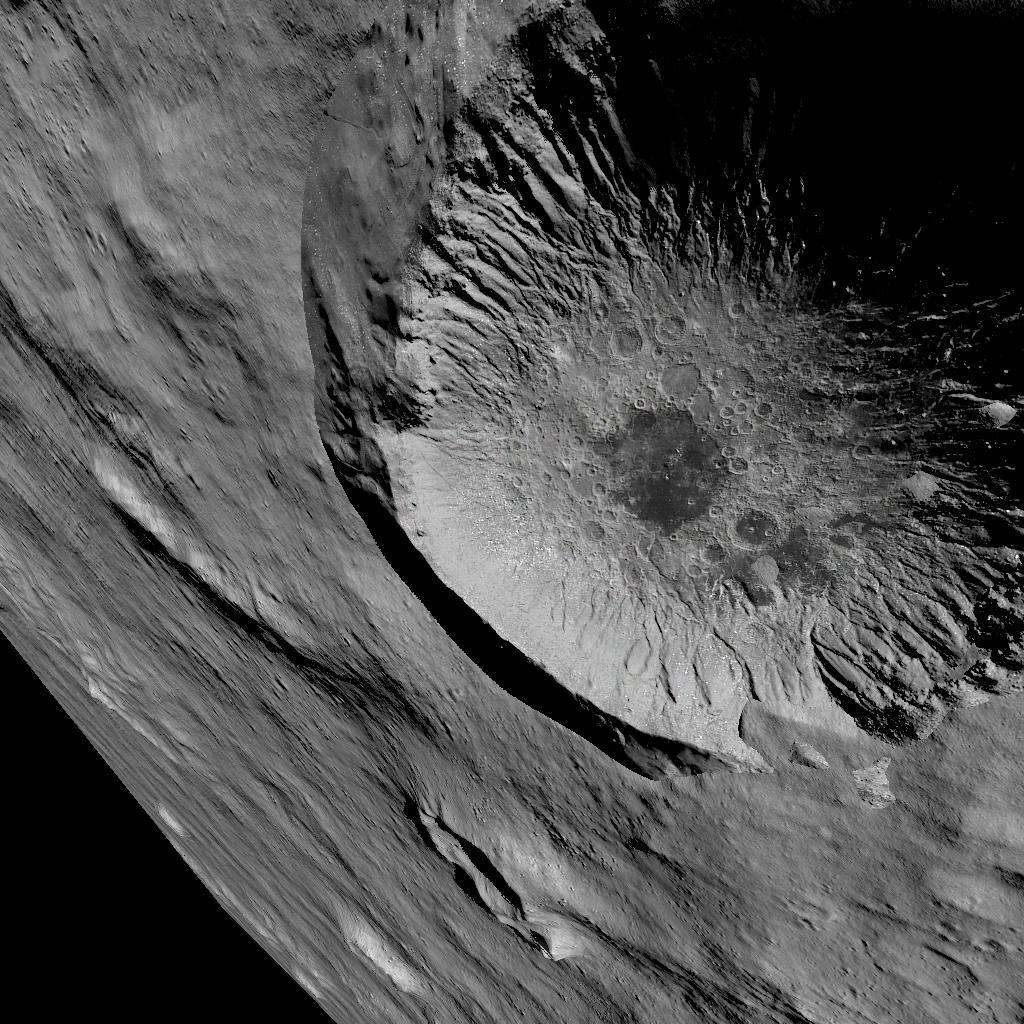Crater: (275, 0, 1024, 777), (389, 792, 556, 938)
Plan surface: (597, 790, 1024, 1024)
